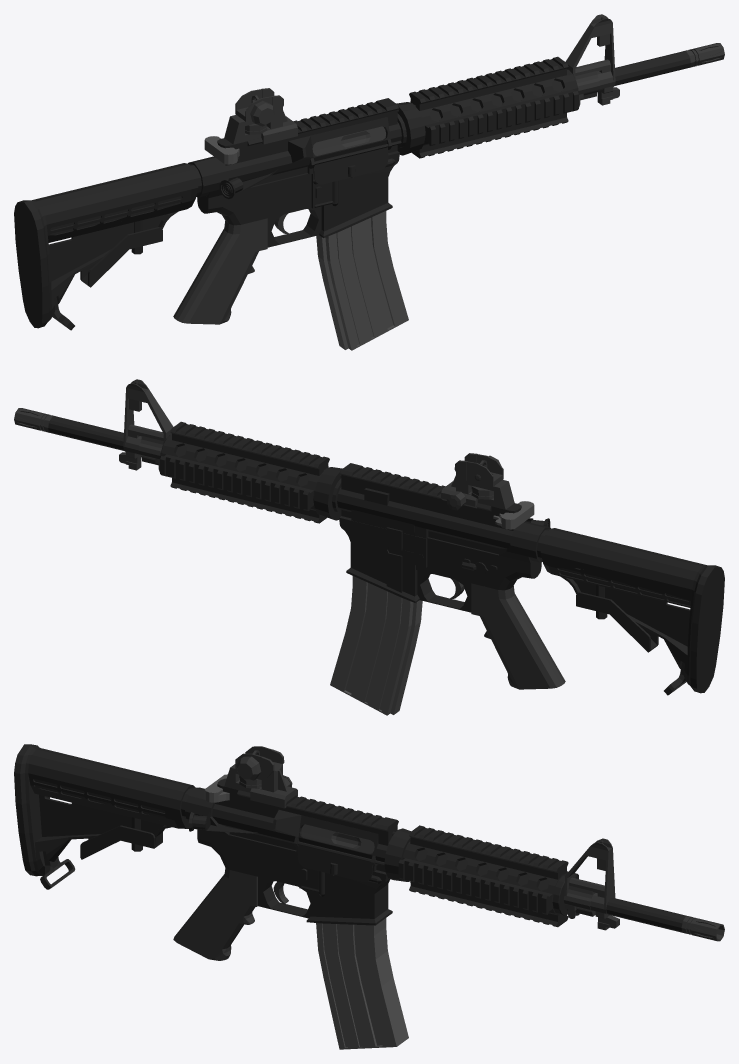
3 views of the same model, one above another, from view 1: azimuth 30°, elevation 25°; view 2: azimuth 150°, elevation 25°; view 3: azimuth 330°, elevation 25° (orthographic).
Parts seen in each view (by area): view 1: Base, Stock, KAC, Mag, Grip, Rear Sight, Front Sight, Cover, Muzzle, Bolt, Standard; view 2: Base, Stock, KAC, Mag, Grip, Rear Sight, Front Sight, Muzzle, Bolt, Standard; view 3: Base, Stock, KAC, Mag, Grip, Rear Sight, Front Sight, Cover, Muzzle, Standard.
Boxes of the visible parts, x1,y1,x2,y2 form: Base: (197, 51, 690, 247); Stock: (14, 160, 211, 330); KAC: (396, 56, 578, 158); Mag: (316, 211, 408, 350); Grip: (173, 218, 267, 324); Rear Sight: (224, 88, 297, 144); Front Sight: (565, 14, 619, 106); Cover: (312, 126, 385, 155); Muzzle: (683, 43, 724, 67); Bolt: (204, 136, 239, 164); Standard: (575, 71, 600, 100); Base: (48, 416, 550, 612); Stock: (527, 525, 724, 695); KAC: (160, 421, 342, 523); Mag: (330, 576, 422, 715); Grip: (471, 583, 565, 689); Rear Sight: (441, 453, 514, 510); Front Sight: (119, 379, 173, 471); Muzzle: (14, 408, 55, 432); Bolt: (493, 501, 534, 529); Standard: (138, 436, 163, 465); Base: (188, 778, 688, 932); Stock: (14, 744, 204, 889); KAC: (384, 825, 578, 927); Mag: (316, 918, 408, 1049); Grip: (173, 868, 257, 960); Rear Sight: (224, 746, 297, 808); Front Sight: (564, 838, 619, 930); Cover: (301, 824, 374, 853); Muzzle: (681, 916, 724, 941); Standard: (564, 885, 595, 916).
Size of the model in its own units: 176 by 66.28 by 17.11.
